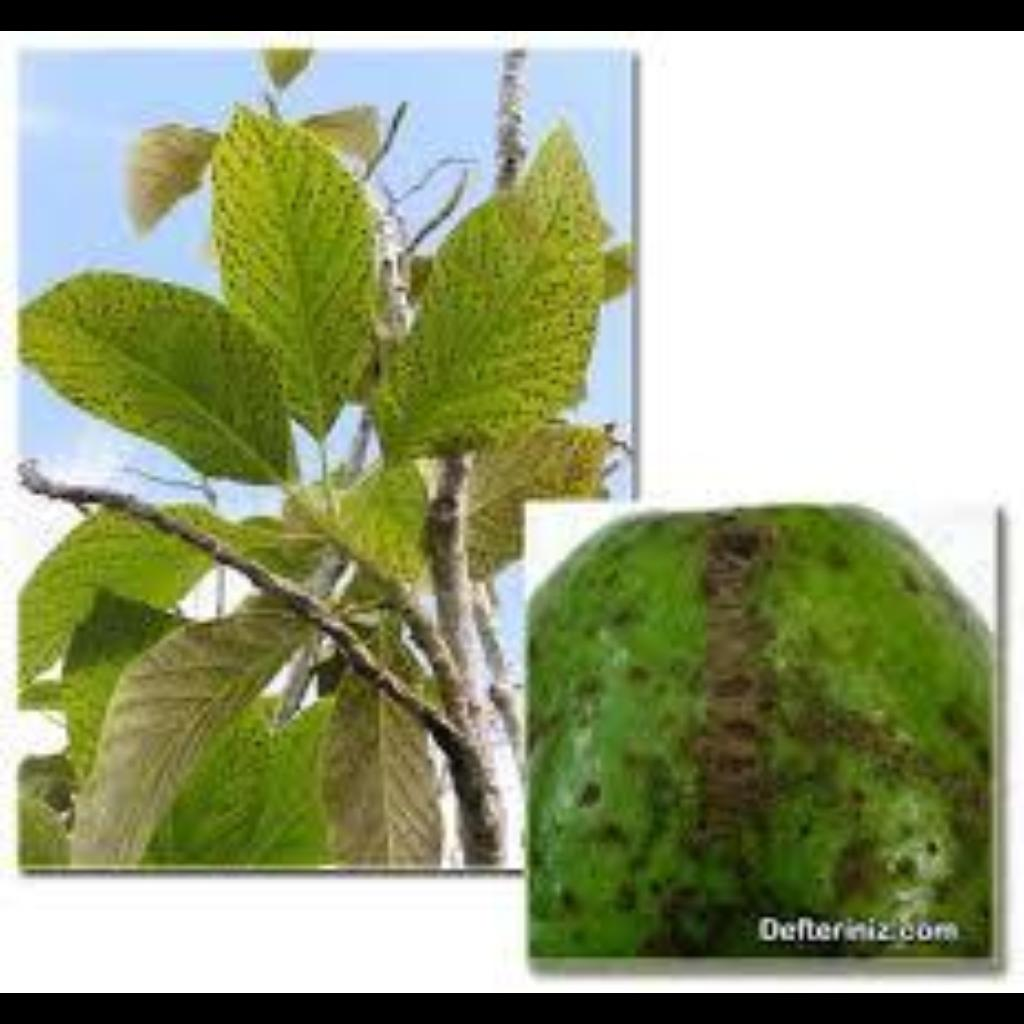cercospora: (544, 530, 999, 971)
